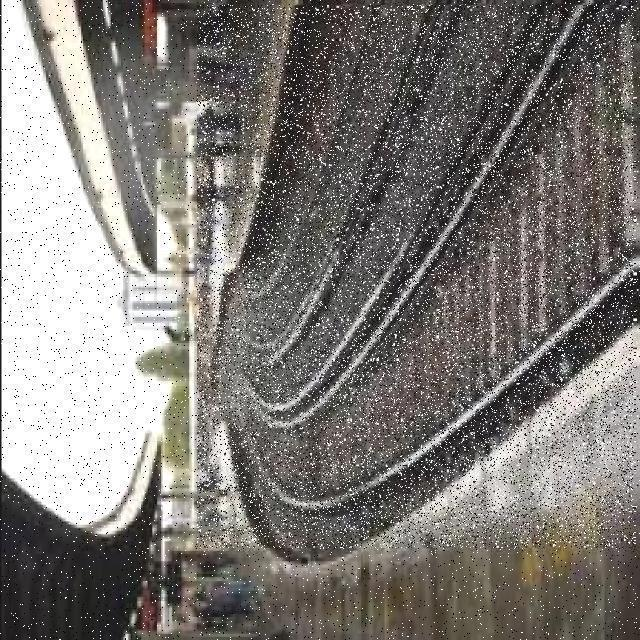rail: (199, 7, 636, 549)
